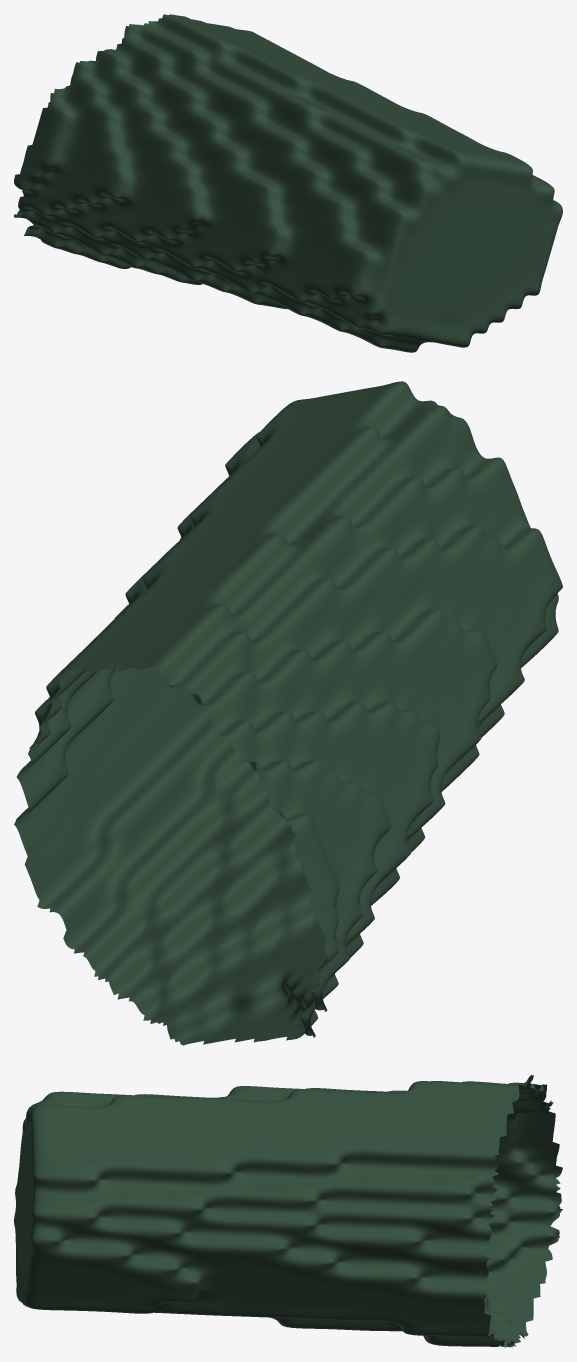
File: proximal.obj
3 views of the same model, one above another, from view 1: azimuth 30°, elevation 25°; view 2: azimuth 150°, elevation 25°; view 3: azimuth 270°, elevation 25° (orthographic). The views are drawn at different scales.
Visible parts, largest first — view 1: tibia.001; view 2: tibia.001; view 3: tibia.001.
Part boxes in pixels (<box>): tibia.001: <box>14,14,562,352</box>; tibia.001: <box>14,381,562,1045</box>; tibia.001: <box>14,1075,562,1347</box>.
Size of the model in its own units: 0.0322 by 0.0264 by 0.048.
